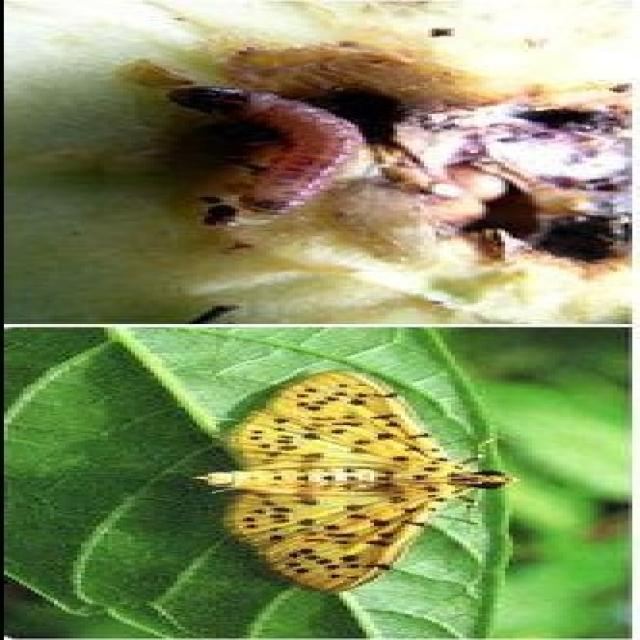peach borer: (194, 371, 518, 602), (202, 77, 364, 225)
